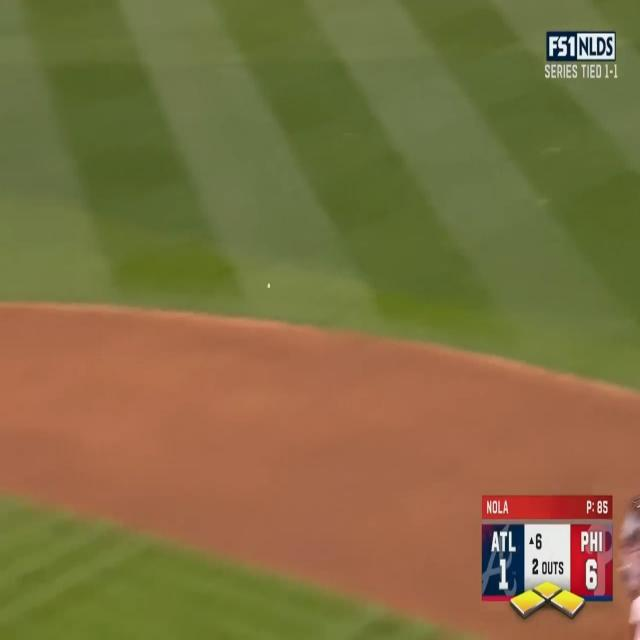baseball: (268, 282, 270, 288)
